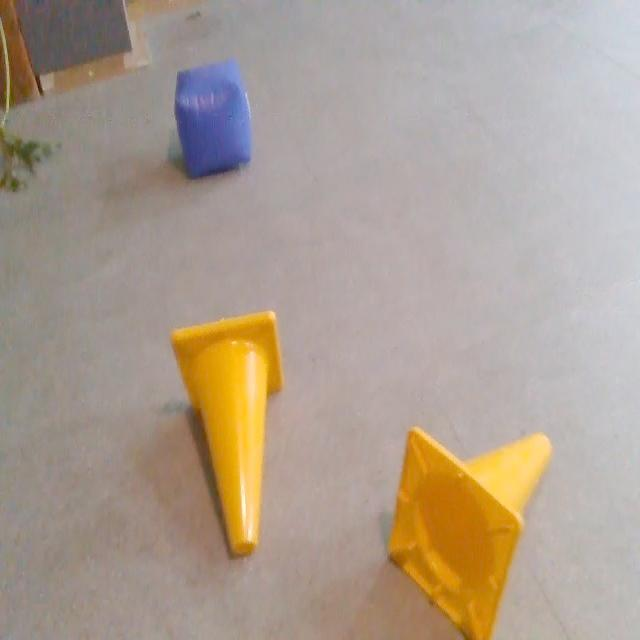cone: (392, 424, 552, 640), (173, 302, 287, 564)
cube: (170, 61, 256, 186)
